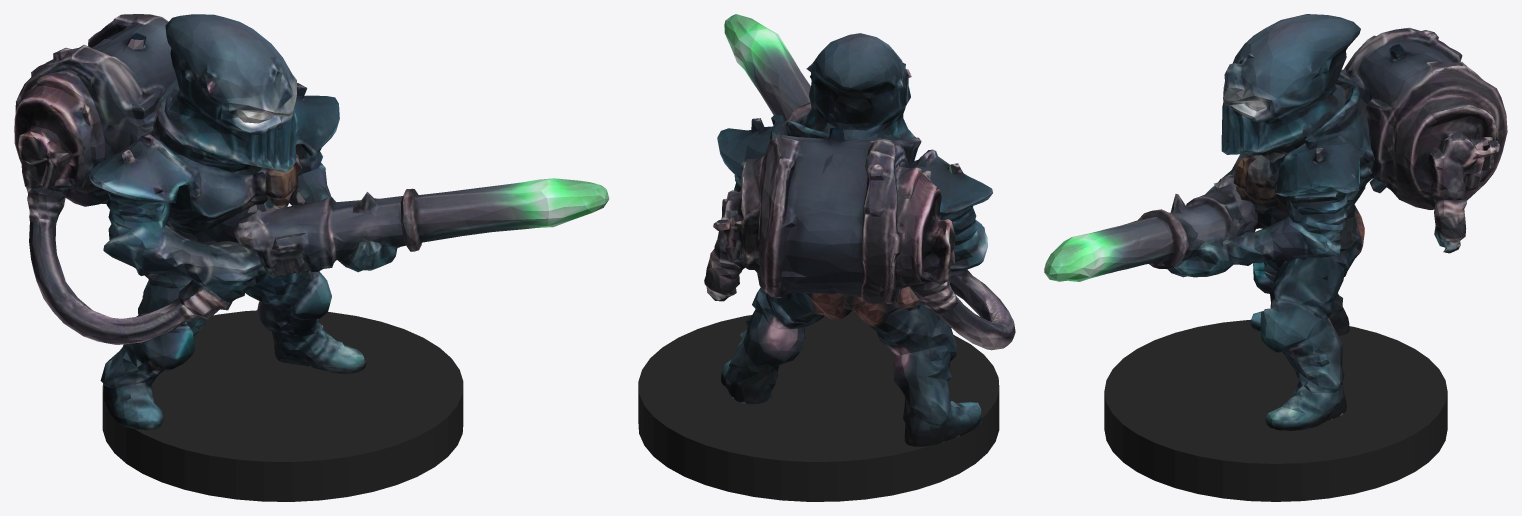
Rendered from ha-heavy-gunner.glb.
3 views of the same model, side by side, from view 1: azimuth 30°, elevation 25°; view 2: azimuth 150°, elevation 25°; view 3: azimuth 270°, elevation 25° (orthographic). The views are drawn at different scales.
Parts seen in each view (by area): view 1: figure, base; view 2: figure, base; view 3: figure, base.
Boxes of the visible parts, left/top/right/bottom form: figure: left=14, top=14, right=609, bottom=430; base: left=102, top=310, right=463, bottom=501; figure: left=704, top=14, right=1015, bottom=446; base: left=638, top=311, right=999, bottom=501; figure: left=1044, top=14, right=1507, bottom=430; base: left=1104, top=319, right=1447, bottom=501.
Size of the model in its own units: 1.32 by 1.22 by 1.33.
2 materials, 1 textured.
